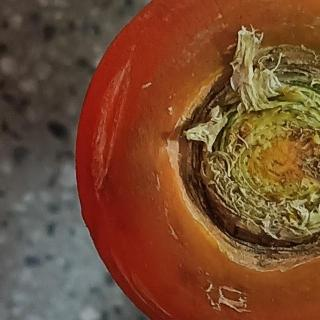carrot: (63, 0, 320, 320)
